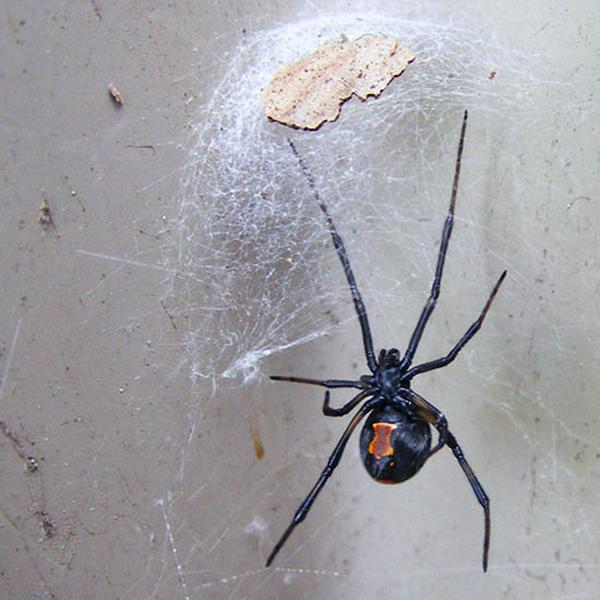Redback Spider: (264, 110, 507, 571)
